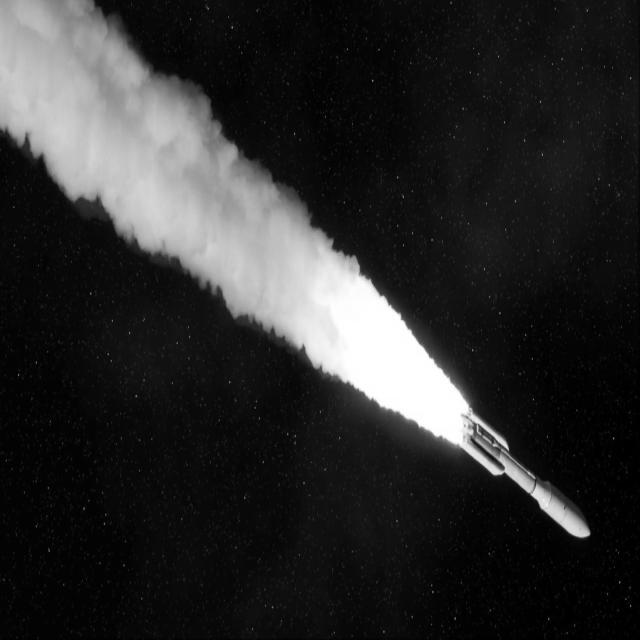missile: (452, 394, 594, 562)
